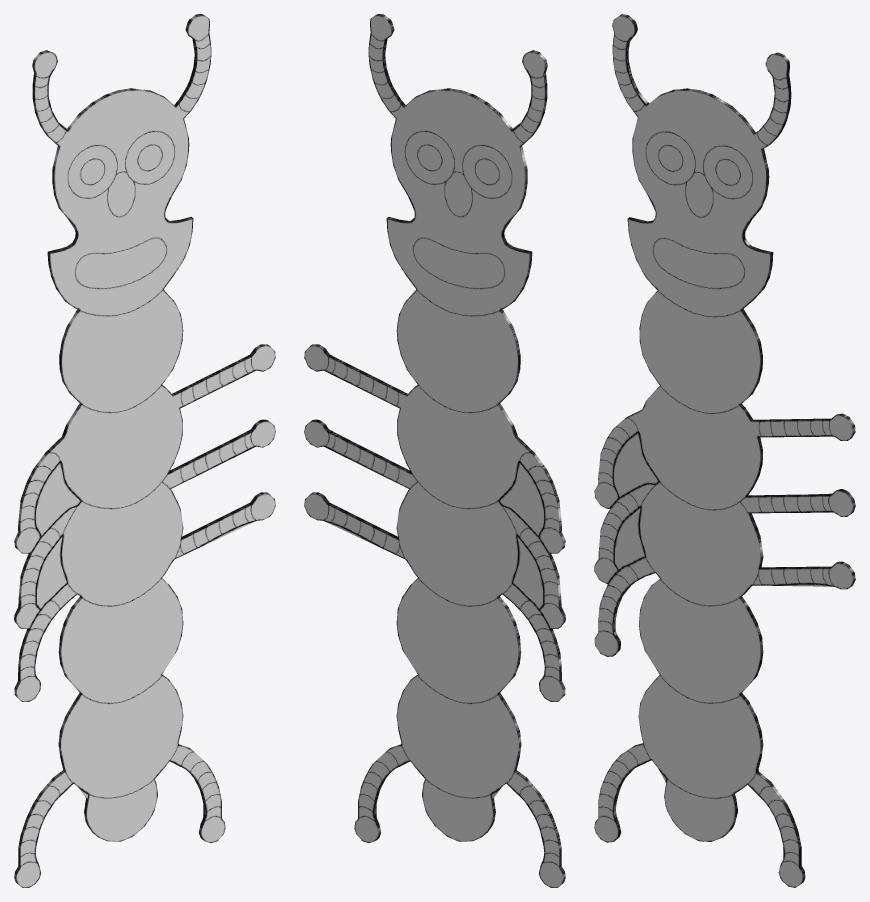
The model's file is 14_checkga.fbx.
3 views of the same model, side by side, from view 1: azimuth 30°, elevation 25°; view 2: azimuth 150°, elevation 25°; view 3: azimuth 330°, elevation 25° (orthographic).
Visible parts, largest first — view 1: planarTrimmedSurface28; view 2: planarTrimmedSurface28; view 3: planarTrimmedSurface28.
Part boxes in pixels (<box>): planarTrimmedSurface28: <box>14,14,275,887</box>; planarTrimmedSurface28: <box>304,14,565,887</box>; planarTrimmedSurface28: <box>594,14,855,887</box>.
Bounding box in the file's own units: 12.57 × 38.45 × 0.1716.
Materials: 1 (1 with a texture image).
